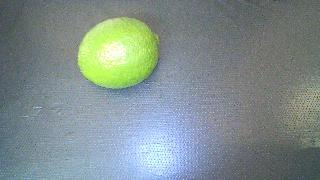EXPORTACION: (78, 17, 159, 89)
